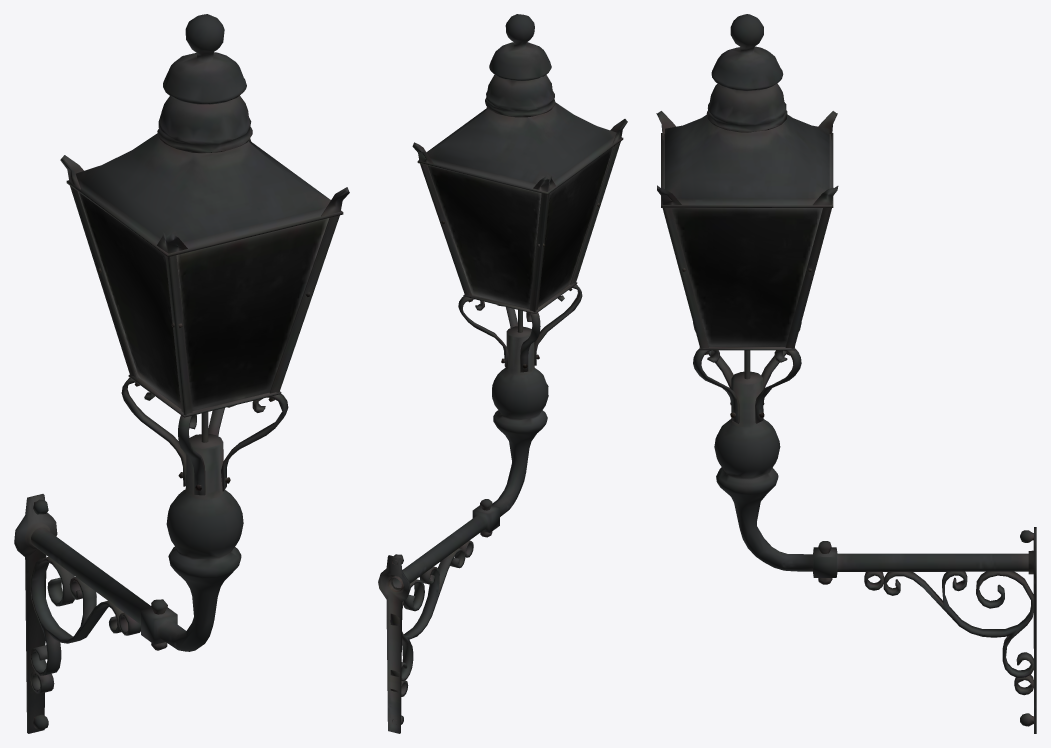
Rendered from street_lamp_02_lod1.glb.
The picture shows the model from 3 angles, left to right: view 1: azimuth 30°, elevation 25°; view 2: azimuth 150°, elevation 25°; view 3: azimuth 270°, elevation 25°; orthographic projection. The views are drawn at different scales.
Visible parts, largest first — view 1: street_lamp_02; view 2: street_lamp_02; view 3: street_lamp_02.
Boxes of the visible parts, x1,y1,x2,y2 form: street_lamp_02: (14,14,349,733); street_lamp_02: (378,14,627,733); street_lamp_02: (656,14,1036,733).
Size of the model in its own units: 0.3844 by 1.67 by 0.8067.
Materials: 2 (2 with a texture image).
